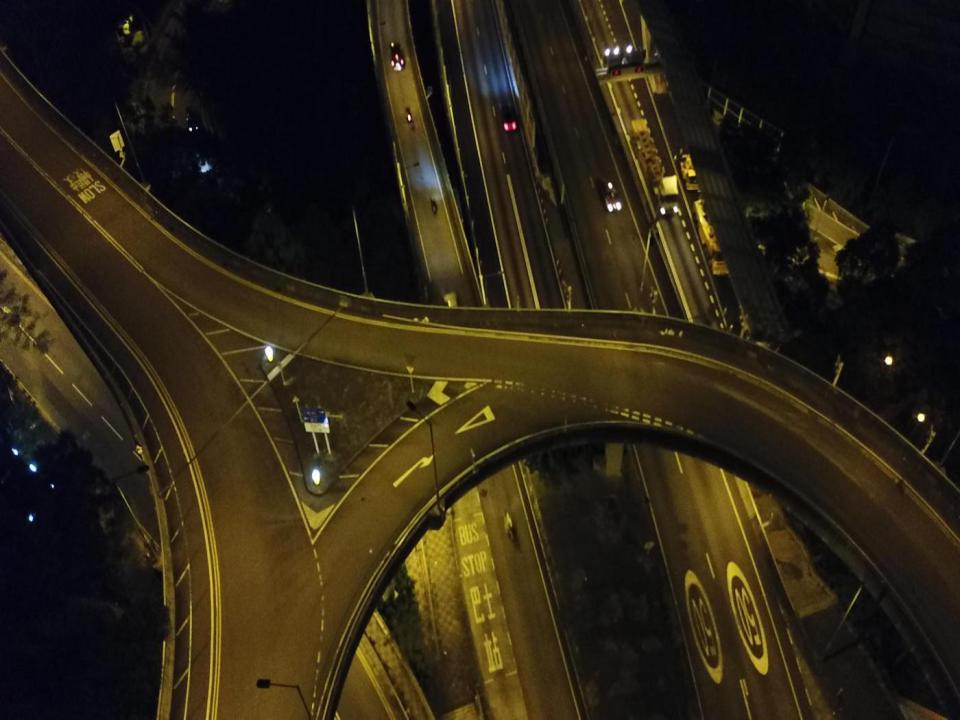car: (595, 172, 621, 212), (497, 100, 518, 134), (442, 290, 460, 323), (388, 40, 406, 72), (184, 106, 200, 135)
truck: (629, 116, 680, 218), (691, 197, 735, 277), (679, 151, 703, 192)
